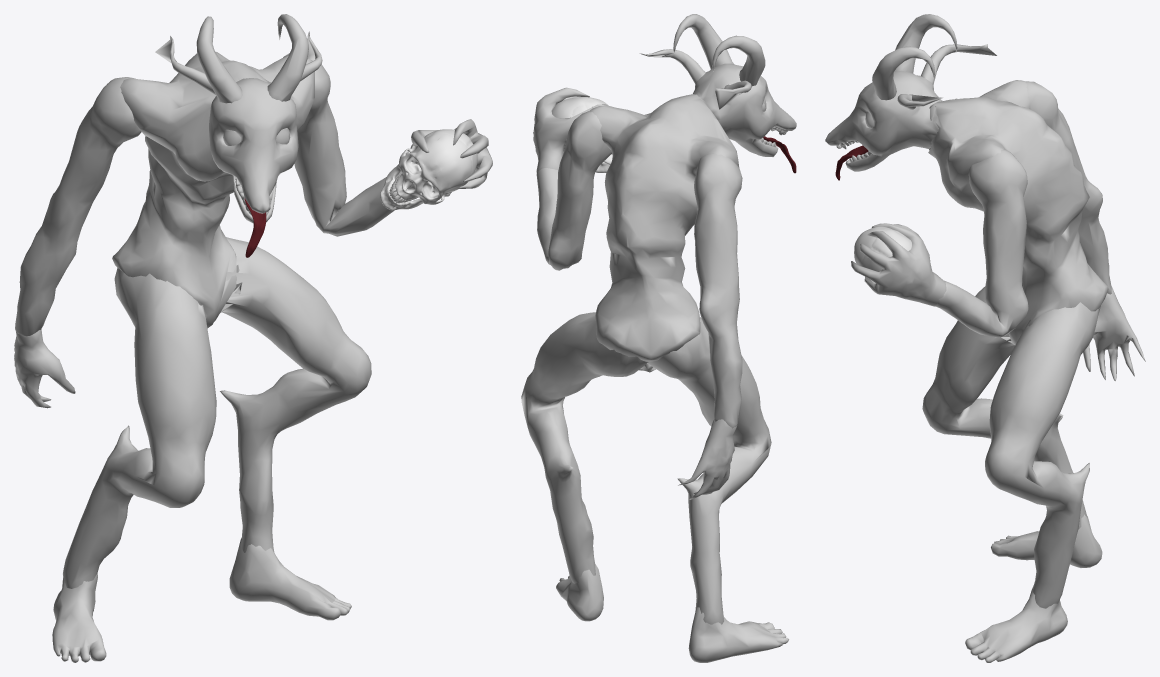
The model's file is winddddyyy FINAL.fbx.
The picture shows the model from 3 angles, left to right: view 1: azimuth 30°, elevation 25°; view 2: azimuth 150°, elevation 25°; view 3: azimuth 270°, elevation 25°; orthographic projection. The views are drawn at different scales.
Visible parts, largest first — view 1: WidYYYY_UV.001, Skull.001; view 2: WidYYYY_UV.001, Skull.001; view 3: WidYYYY_UV.001, Skull.001.
Boxes of the visible parts, x1,y1,x2,y2 form: WidYYYY_UV.001: (14, 14, 492, 662); Skull.001: (380, 129, 477, 210); WidYYYY_UV.001: (521, 14, 796, 662); Skull.001: (552, 97, 612, 172); WidYYYY_UV.001: (825, 14, 1145, 662); Skull.001: (854, 226, 911, 271).
Bounding box in the file's own units: 152 × 266 × 134.
